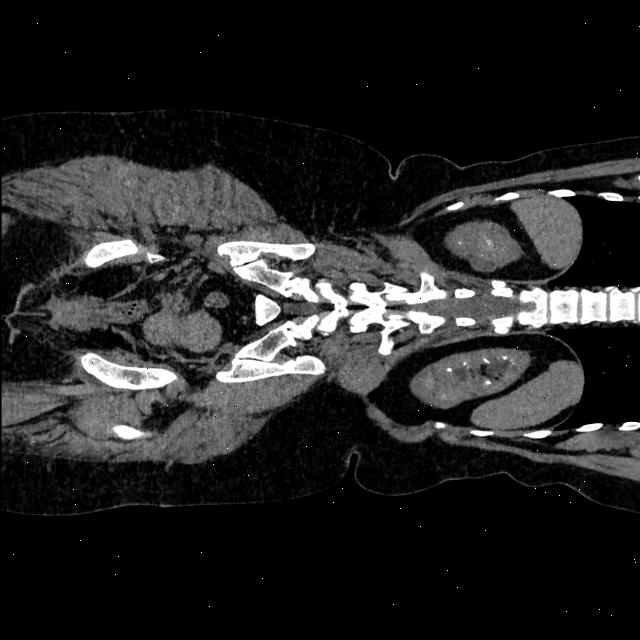kidneystone: (482, 358, 490, 364), (483, 380, 492, 385)
